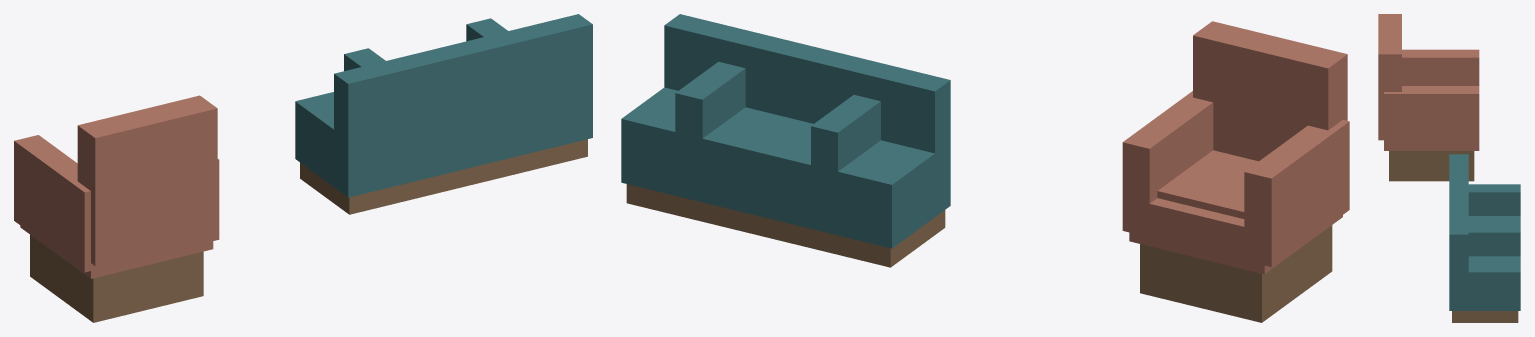
File: LivingRoom.glb
3 views of the same model, side by side, from view 1: azimuth 30°, elevation 25°; view 2: azimuth 150°, elevation 25°; view 3: azimuth 270°, elevation 25° (orthographic). The views are drawn at different scales.
Visible parts, largest first — view 1: SofaBack, ArmBack, SofaBase, ArmBase, ArmLeft, SofaPlinth, SofaRight, SofaLeft, ArmSeat; view 2: SofaBase, SofaBack, ArmBack, ArmLeft, ArmBase, ArmRight, SofaPlinth, ArmSeat, SofaLeft, SofaRight, Cushion; view 3: ArmRight, SofaBase, ArmLeft, SofaBack, ArmBase, ArmBack, SofaRight, SofaLeft, SofaPlinth, ArmSeat.
Boxes of the visible parts, x1=… form: SofaBack: x1=334, y1=14, x2=592, y2=173; ArmBack: x1=77, y1=95, x2=217, y2=266; SofaBase: x1=295, y1=80, x2=592, y2=197; ArmBase: x1=30, y1=235, x2=203, y2=322; ArmLeft: x1=14, y1=135, x2=109, y2=272; SofaPlinth: x1=300, y1=139, x2=587, y2=214; SofaRight: x1=466, y1=18, x2=543, y2=126; SofaLeft: x1=344, y1=48, x2=421, y2=156; ArmSeat: x1=20, y1=225, x2=213, y2=278; SofaBase: x1=621, y1=87, x2=950, y2=248; SofaBack: x1=664, y1=14, x2=950, y2=190; ArmBack: x1=1193, y1=21, x2=1347, y2=161; ArmLeft: x1=1244, y1=120, x2=1349, y2=266; ArmBase: x1=1140, y1=225, x2=1332, y2=322; ArmRight: x1=1122, y1=91, x2=1213, y2=237; SofaPlinth: x1=626, y1=184, x2=945, y2=267; ArmSeat: x1=1129, y1=198, x2=1342, y2=274; SofaLeft: x1=811, y1=95, x2=880, y2=203; SofaRight: x1=675, y1=61, x2=745, y2=169; Cushion: x1=1157, y1=150, x2=1258, y2=218; ArmRight: x1=1384, y1=86, x2=1479, y2=147; SofaBase: x1=1449, y1=216, x2=1520, y2=310; ArmLeft: x1=1402, y1=49, x2=1479, y2=85; SofaBack: x1=1449, y1=154, x2=1468, y2=294; ArmBase: x1=1389, y1=151, x2=1474, y2=181; ArmBack: x1=1378, y1=14, x2=1401, y2=140; SofaRight: x1=1468, y1=224, x2=1520, y2=256; SofaLeft: x1=1468, y1=184, x2=1520, y2=215; SofaPlinth: x1=1452, y1=311, x2=1518, y2=322; ArmSeat: x1=1384, y1=147, x2=1479, y2=150.
Bounding box in the file's own units: 3.64 × 1.2 × 1.2.
